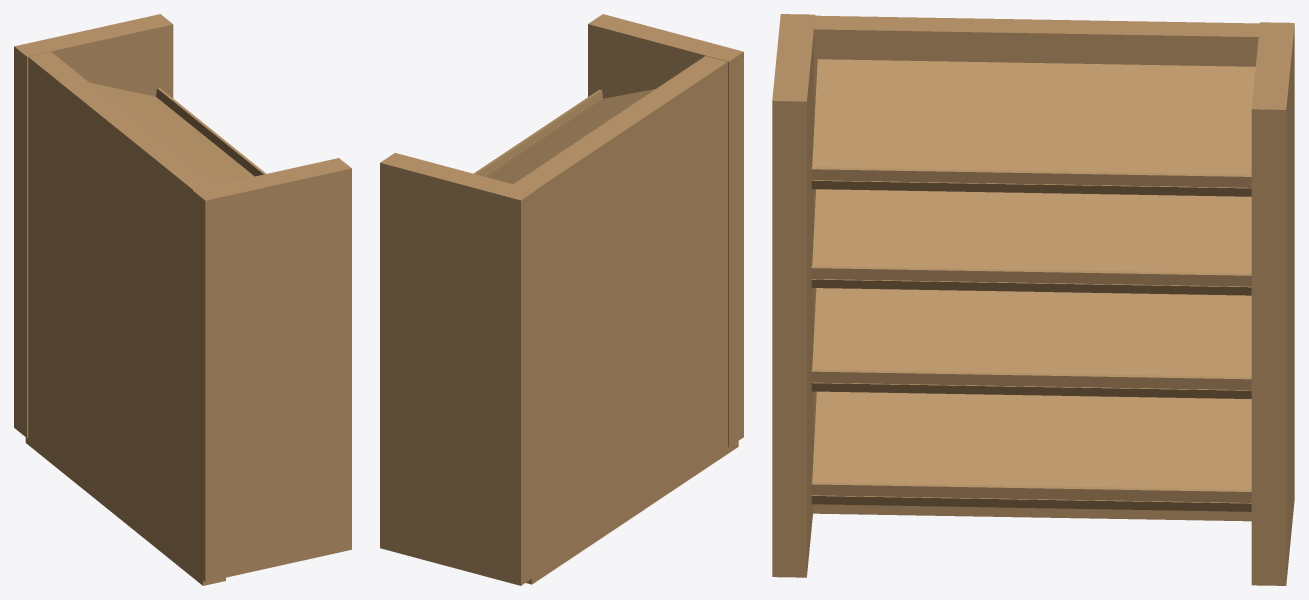
The model's file is estanteria revistas.glb.
3 views of the same model, side by side, from view 1: azimuth 30°, elevation 25°; view 2: azimuth 150°, elevation 25°; view 3: azimuth 270°, elevation 25° (orthographic). The views are drawn at different scales.
Parts seen in each view (by area): view 1: Cubo.010; view 2: Cubo.010; view 3: Cubo.010.
Part boxes in pixels (bbox=[...]): Cubo.010: bbox=[14, 14, 351, 585]; Cubo.010: bbox=[380, 14, 743, 585]; Cubo.010: bbox=[772, 14, 1294, 585].
Bounding box in the file's own units: 1.18 × 2.78 × 2.71.
